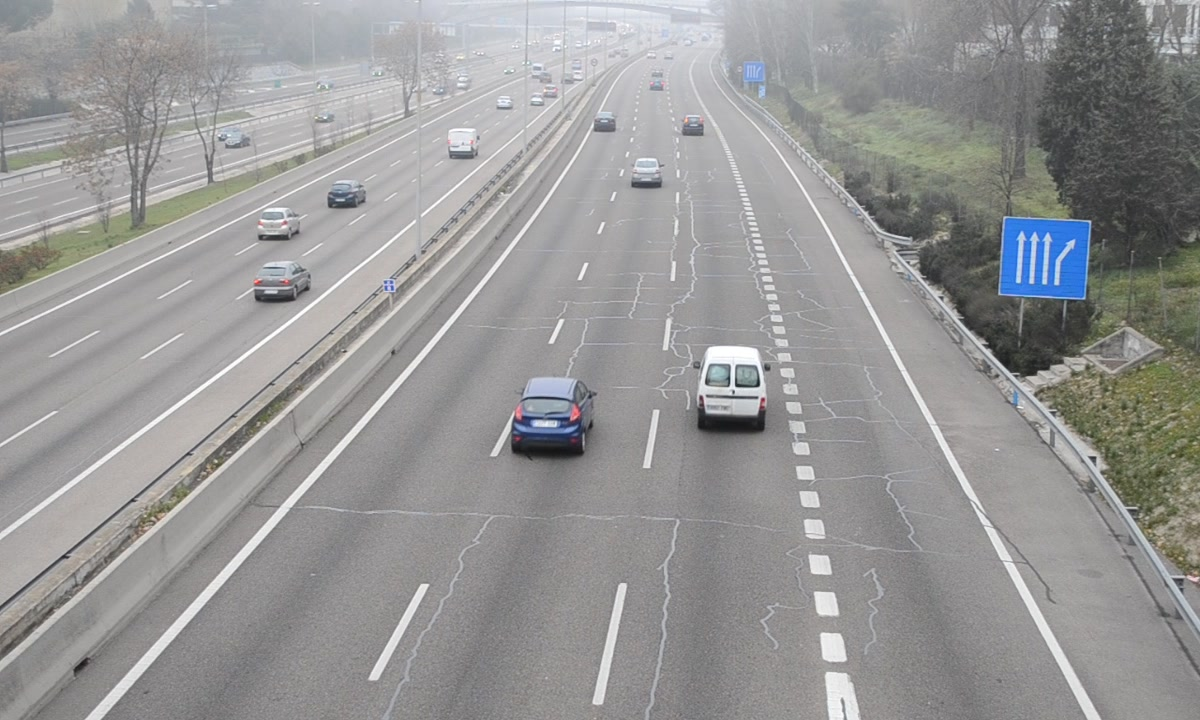car: (512, 378, 595, 452), (630, 157, 662, 187), (592, 110, 618, 133), (681, 115, 705, 136)
van: (697, 347, 767, 427)
